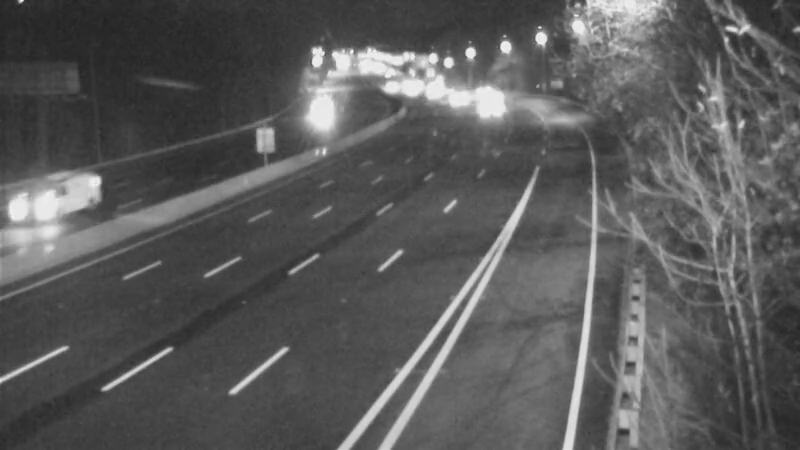vehicle: (1, 168, 79, 248), (438, 74, 488, 124), (467, 84, 517, 134), (293, 90, 343, 140)
